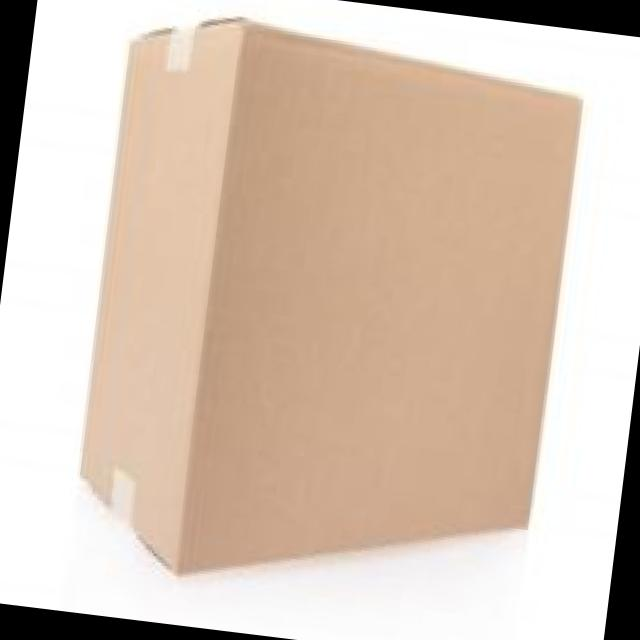box: (77, 18, 582, 577)
